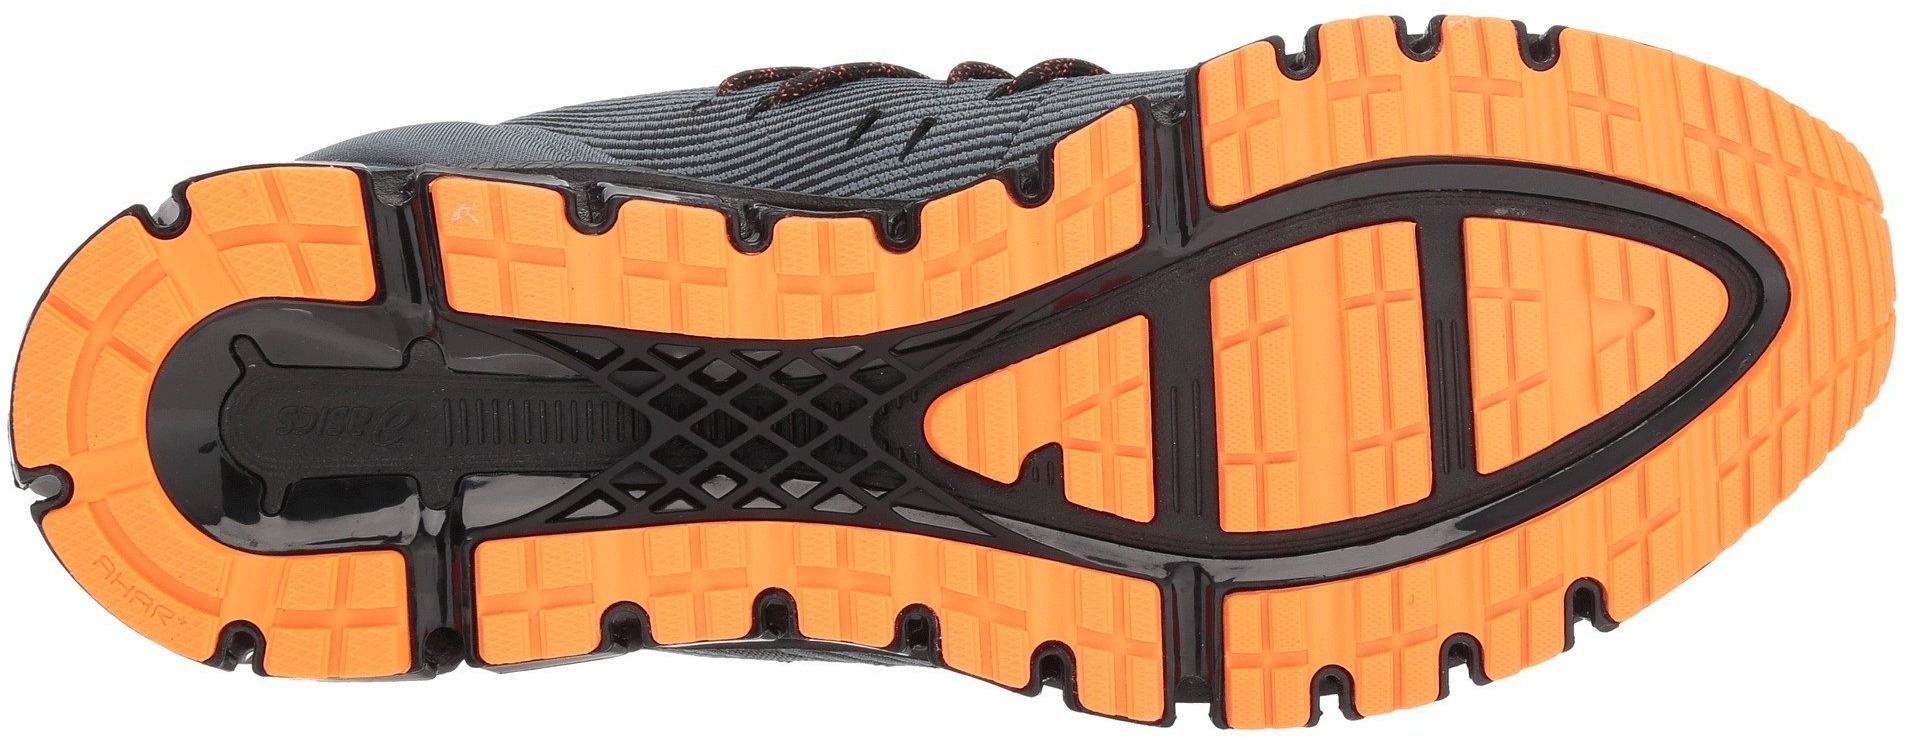chevron: (1467, 226, 1675, 425)
line: (463, 377, 579, 470)
quad: (4, 206, 209, 481), (1201, 289, 1429, 507), (1467, 226, 1675, 425), (639, 343, 808, 509), (254, 526, 418, 693), (1050, 304, 1156, 539), (458, 528, 610, 673), (1789, 171, 1910, 348), (610, 202, 740, 349), (1056, 573, 1172, 733), (1660, 68, 1786, 212), (1207, 576, 1321, 736), (630, 510, 762, 647), (1050, 91, 1141, 285), (448, 179, 580, 312), (1343, 561, 1457, 709), (782, 522, 911, 648), (912, 174, 1022, 322), (1551, 24, 1647, 190), (915, 357, 1028, 498), (1313, 21, 1427, 152), (773, 215, 879, 349), (1596, 473, 1708, 594), (918, 202, 1019, 306), (1719, 392, 1807, 496)
text: (285, 377, 406, 473), (89, 565, 171, 627)
triangle: (1467, 226, 1675, 425), (915, 357, 1028, 498)
